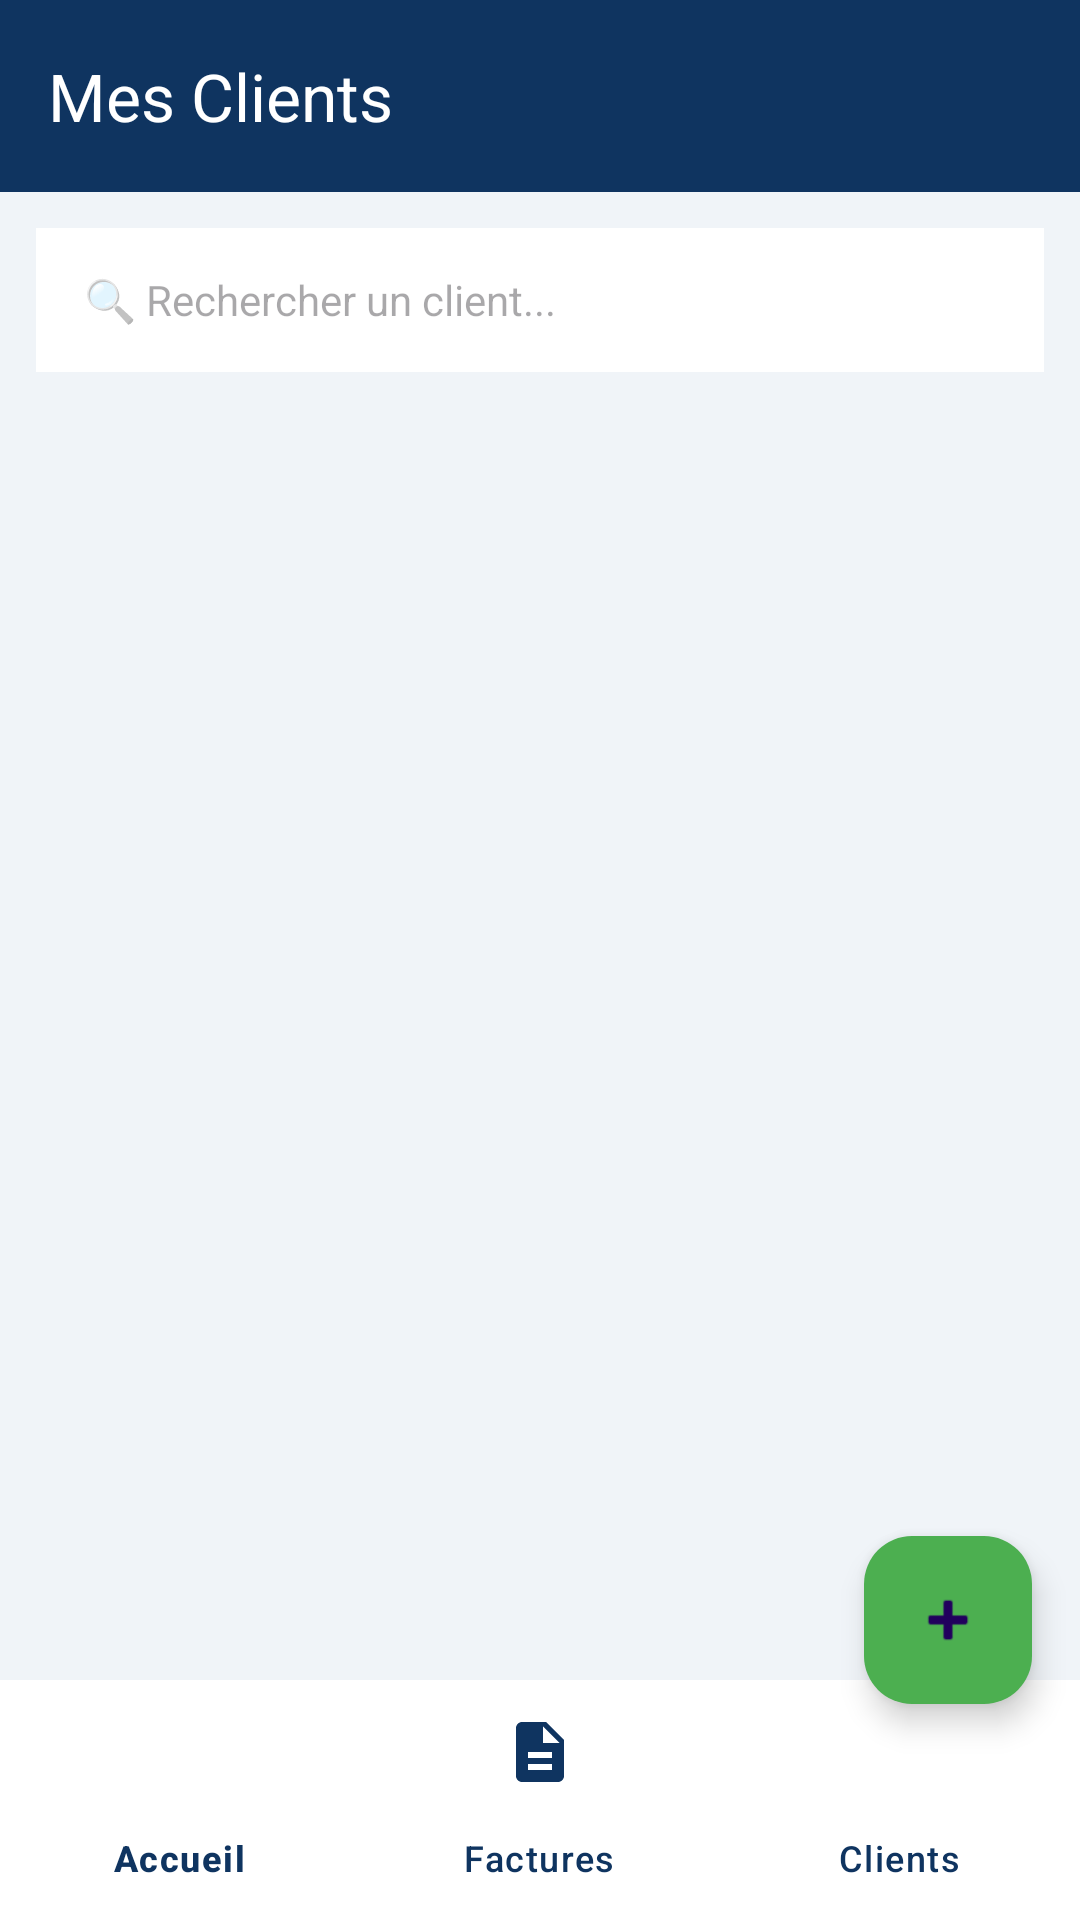

Named icons in this screenshot (1080x1920) and their bounding boxes, (x1=x1, y1=y1, x2=x2, y2=y2):
Ajouter un client: (x1=864, y1=1536, x2=1032, y2=1704)
